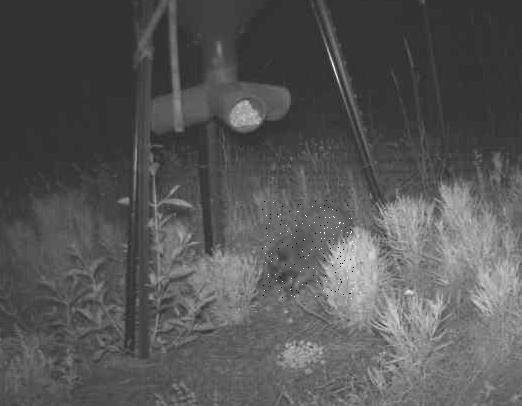Raccoon: (260, 201, 354, 300)
